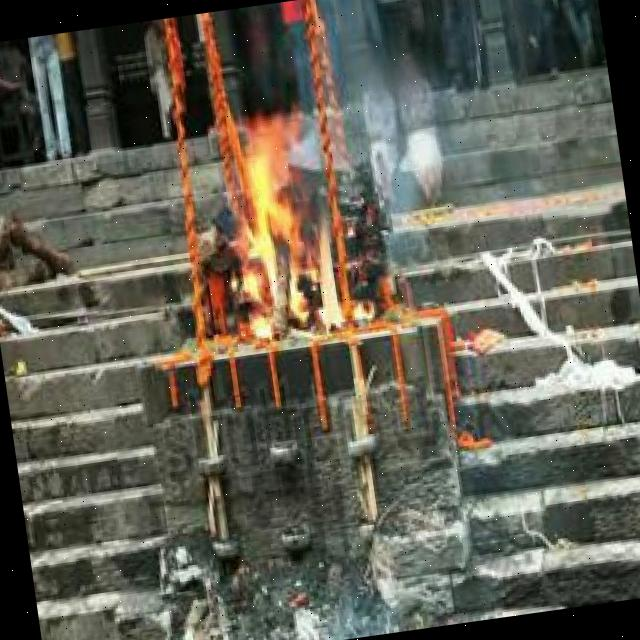fire: (218, 105, 354, 346)
